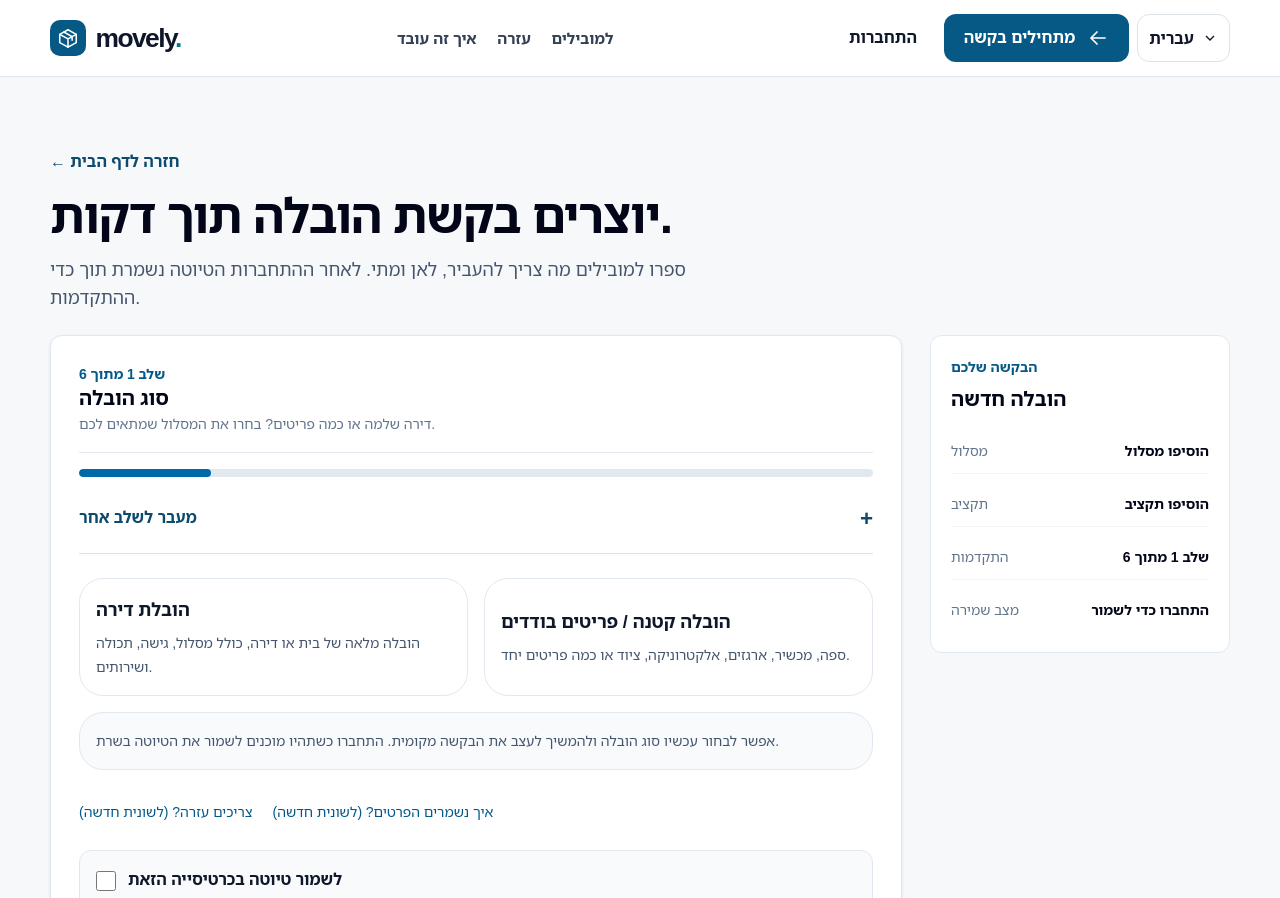
Scenario: WIZARD-001 Customer can select Apartment Move.
The width and height of the screenshot is (1280, 898).
Click the button "הובלת דירה הובלה מלאה של בית או דירה" at (274, 637), box [79, 578, 468, 696]
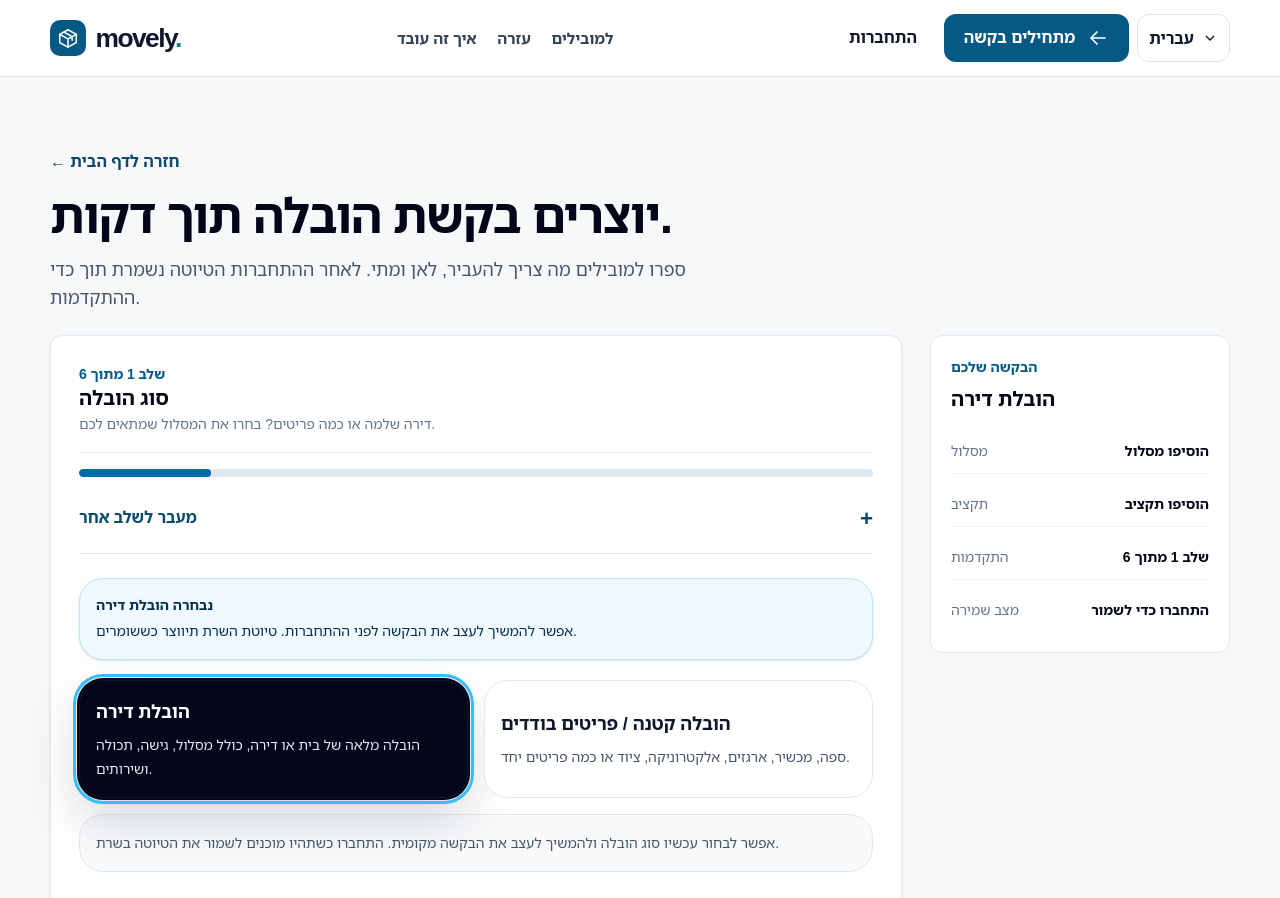
Result: the text "נבחרה הובלת דירה" is shown at [96, 595, 213, 614]
